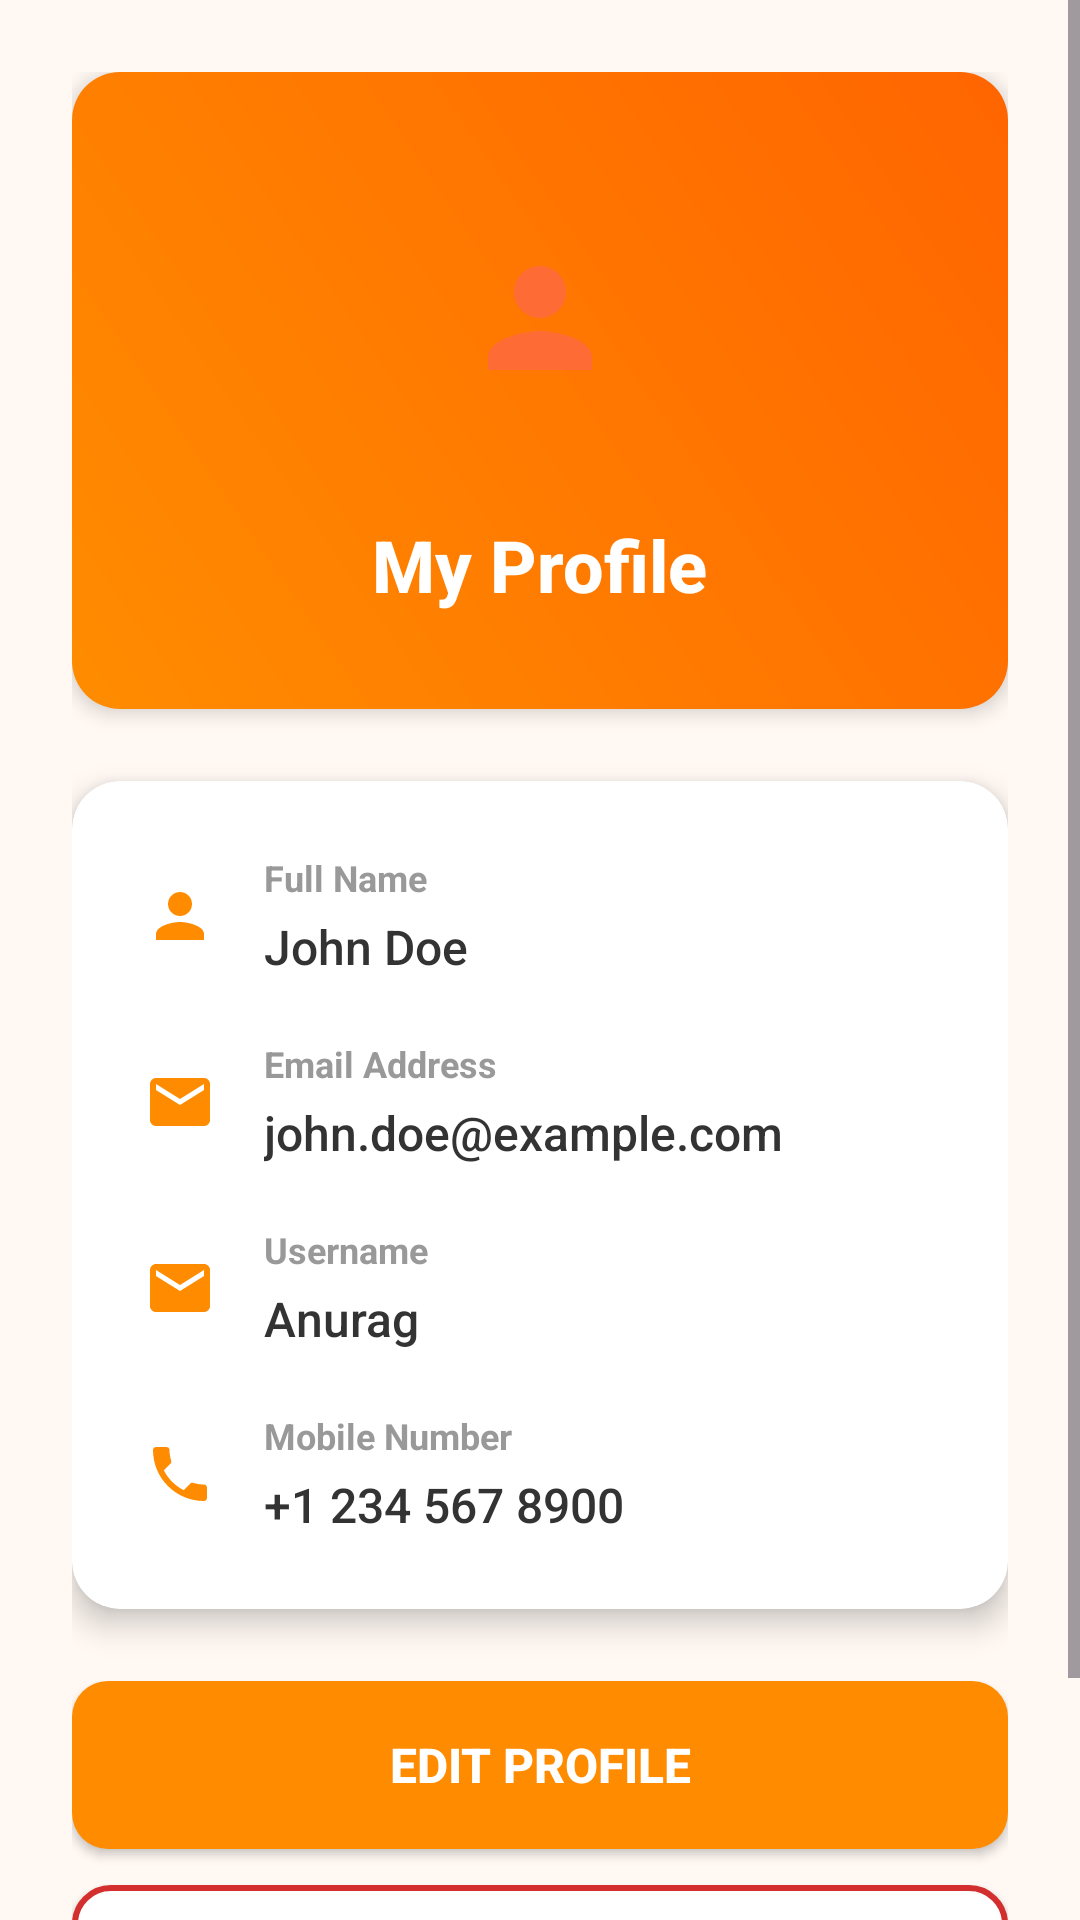

Point at icon controls on the screen. Image size 1080*1920, points as (x=x, y=y).
person: (x=540, y=318), (x=180, y=916)
phone: (x=180, y=1474)
